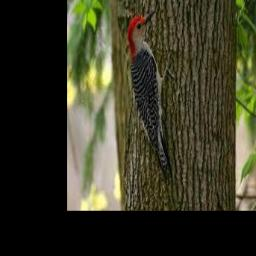Woodpecker: (128, 9, 175, 173)
